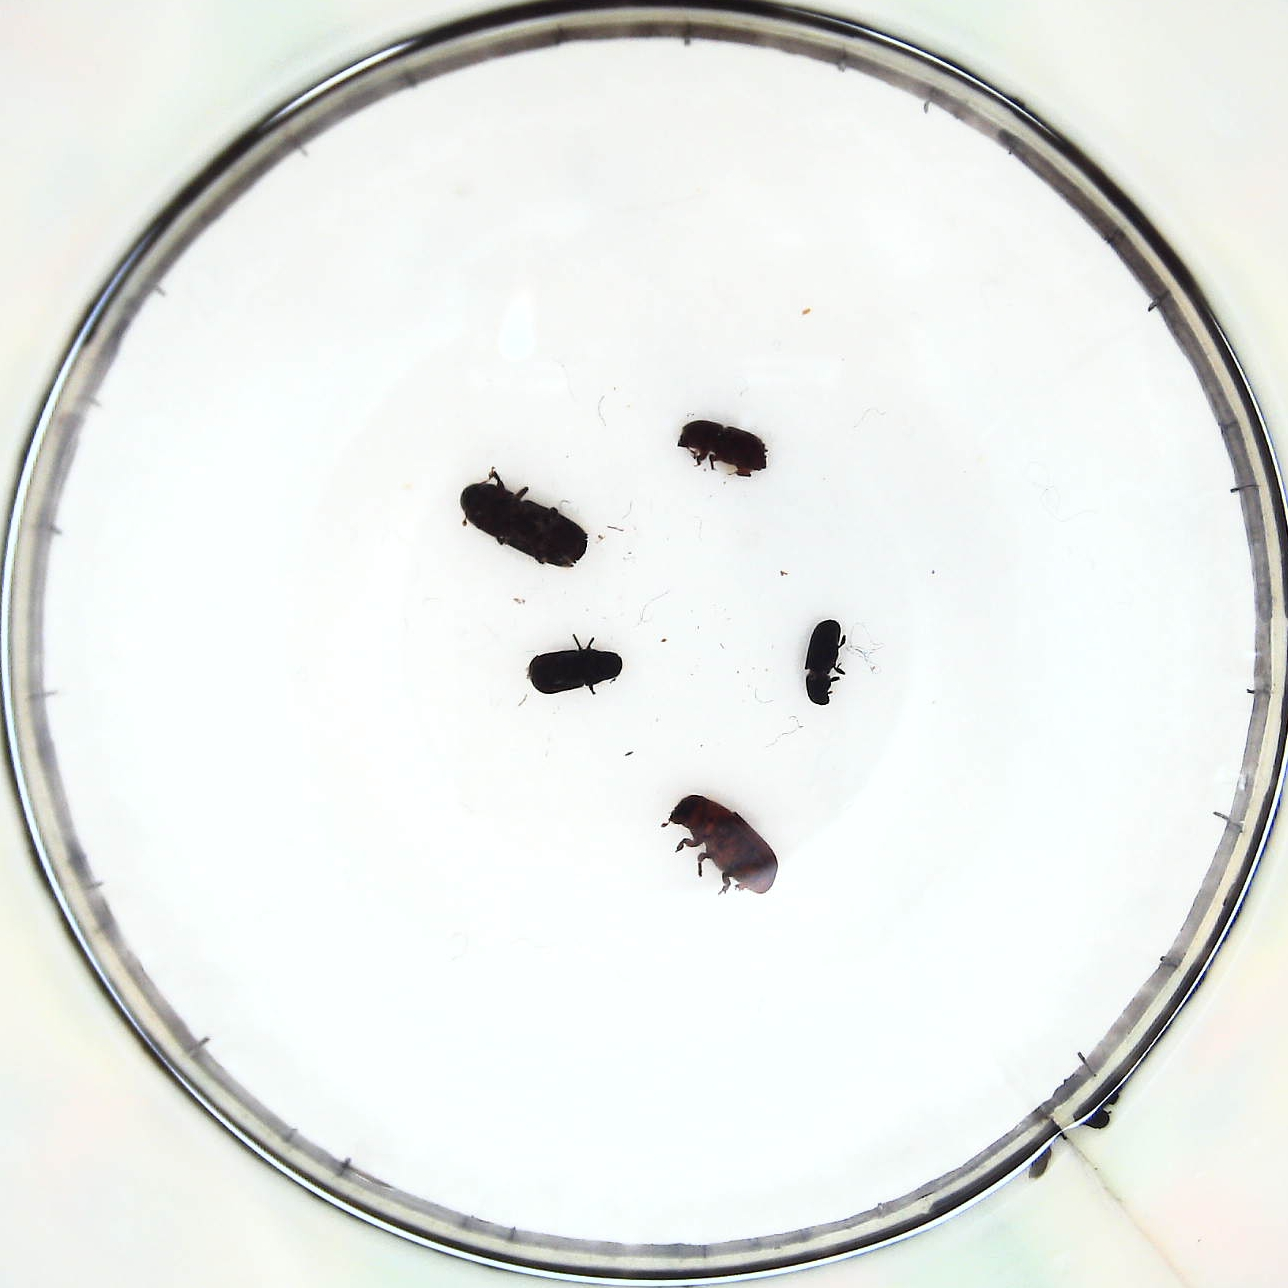Boerner: (464, 473, 593, 577)
Leconte: (670, 791, 778, 902)
Linnaeus: (675, 418, 770, 480)
armandi: (523, 644, 624, 695)
coleoptera: (802, 616, 847, 710)
